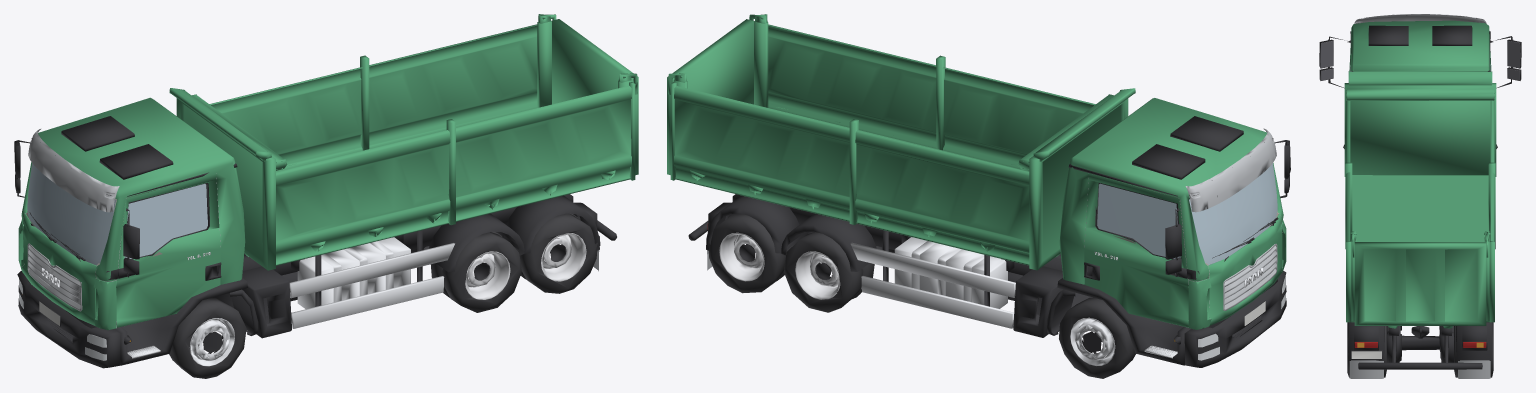
File: archmodels55-22.glb
3 views of the same model, side by side, from view 1: azimuth 30°, elevation 25°; view 2: azimuth 150°, elevation 25°; view 3: azimuth 270°, elevation 25° (orthographic). The views are drawn at different scales.
Parts seen in each view (by area): view 1: Archmodels55_22_carpaint, Archmodels55_22_black, Archmodels55_22_chrome2, Archmodels55_22_tires, Archmodels55_22_black2, Archmodels55_22_glass, Archmodels55_22_rims, Archmodels55_22_windshield_spoiler, Archmodels55_22_grill; view 2: Archmodels55_22_carpaint, Archmodels55_22_black, Archmodels55_22_chrome2, Archmodels55_22_tires, Archmodels55_22_black2, Archmodels55_22_glass, Archmodels55_22_rims, Archmodels55_22_windshield_spoiler, Archmodels55_22_grill; view 3: Archmodels55_22_carpaint, Archmodels55_22_black, Archmodels55_22_black2, Archmodels55_22_mirrors, Archmodels55_22_splash_shield, Archmodels55_22_windshield_spoiler, Archmodels55_22_tires, Archmodels55_22_register_plate, Archmodels55_22_red_lights.
Part boxes in pixels (<box>): Archmodels55_22_carpaint: <box>18,14,638,330</box>; Archmodels55_22_black: <box>14,116,573,368</box>; Archmodels55_22_chrome2: <box>189,237,454,366</box>; Archmodels55_22_tires: <box>169,213,597,378</box>; Archmodels55_22_black2: <box>29,183,616,338</box>; Archmodels55_22_glass: <box>27,163,207,264</box>; Archmodels55_22_rims: <box>465,233,586,299</box>; Archmodels55_22_windshield_spoiler: <box>28,128,119,212</box>; Archmodels55_22_grill: <box>27,243,82,311</box>; Archmodels55_22_carpaint: <box>667,14,1286,329</box>; Archmodels55_22_black: <box>732,116,1290,367</box>; Archmodels55_22_chrome2: <box>850,237,1115,365</box>; Archmodels55_22_tires: <box>708,213,1135,378</box>; Archmodels55_22_black2: <box>688,183,1278,337</box>; Archmodels55_22_glass: <box>1097,163,1277,264</box>; Archmodels55_22_rims: <box>719,232,840,299</box>; Archmodels55_22_windshield_spoiler: <box>1185,128,1276,212</box>; Archmodels55_22_grill: <box>1223,243,1277,310</box>; Archmodels55_22_carpaint: <box>1344,20,1496,328</box>; Archmodels55_22_black: <box>1319,15,1521,362</box>; Archmodels55_22_black2: <box>1348,58,1492,369</box>; Archmodels55_22_mirrors: <box>1320,40,1520,80</box>; Archmodels55_22_splash_shield: <box>1349,360,1490,378</box>; Archmodels55_22_windshield_spoiler: <box>1354,14,1486,23</box>; Archmodels55_22_tires: <box>1347,322,1493,377</box>; Archmodels55_22_register_plate: <box>1351,351,1381,358</box>; Archmodels55_22_red_lights: <box>1354,342,1486,347</box>.
Size of the model in its own units: 8.99 by 3.39 by 3.45.
